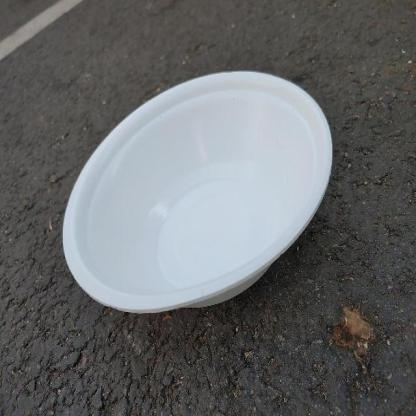Glass Cup: (63, 69, 332, 314), (63, 71, 333, 313)
